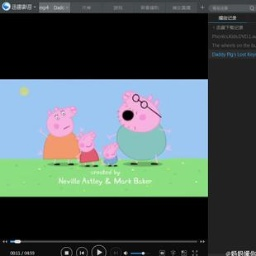Peppa: (76, 132, 100, 168)
